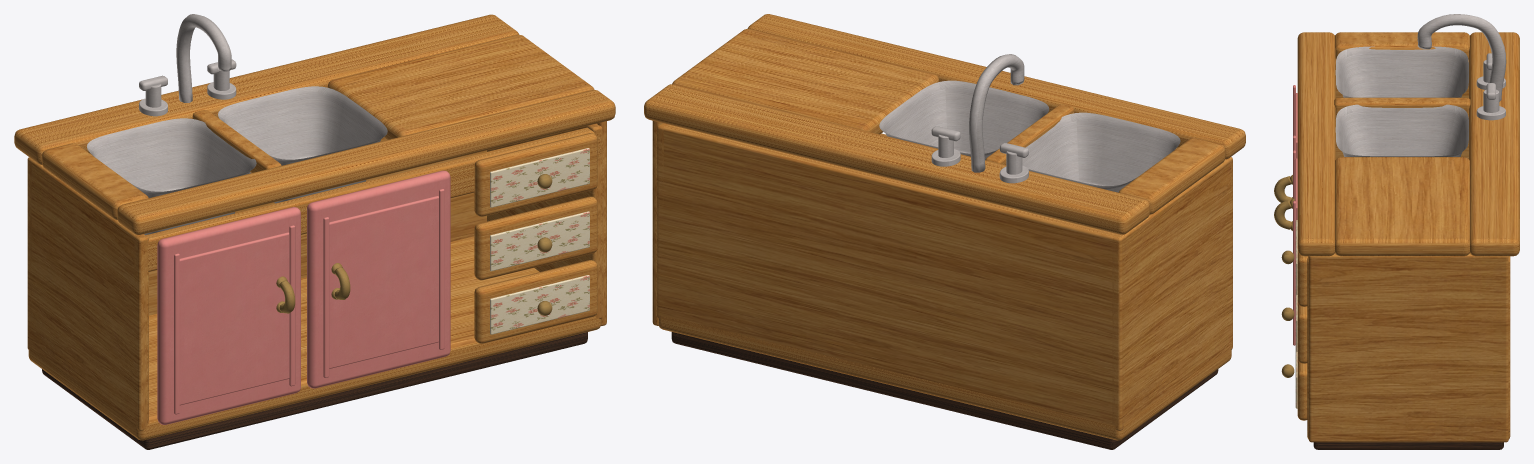
Rendered from SM_InteriorAdditions_SinkCabinet.fbx.
3 views of the same model, side by side, from view 1: azimuth 30°, elevation 25°; view 2: azimuth 150°, elevation 25°; view 3: azimuth 270°, elevation 25° (orthographic). The views are drawn at different scales.
Parts seen in each view (by area): view 1: SM_InteriorAdditions_SinkCabinet; view 2: SM_InteriorAdditions_SinkCabinet; view 3: SM_InteriorAdditions_SinkCabinet.
Boxes of the visible parts, box(x1,y1,x2,y2) form: SM_InteriorAdditions_SinkCabinet: box(14, 14, 615, 449); SM_InteriorAdditions_SinkCabinet: box(644, 14, 1245, 449); SM_InteriorAdditions_SinkCabinet: box(1274, 14, 1519, 449).
Size of what is drawn, in the model's own units: 204 by 101 by 138.
